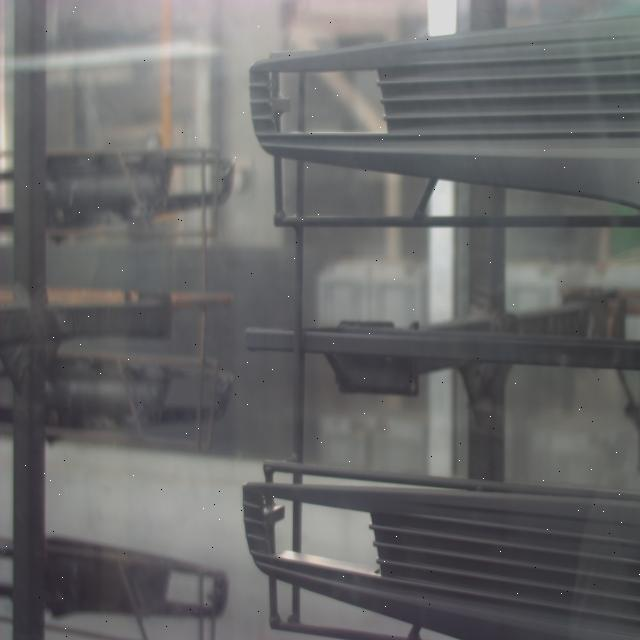Primered: (244, 0, 640, 236), (239, 445, 640, 639)
